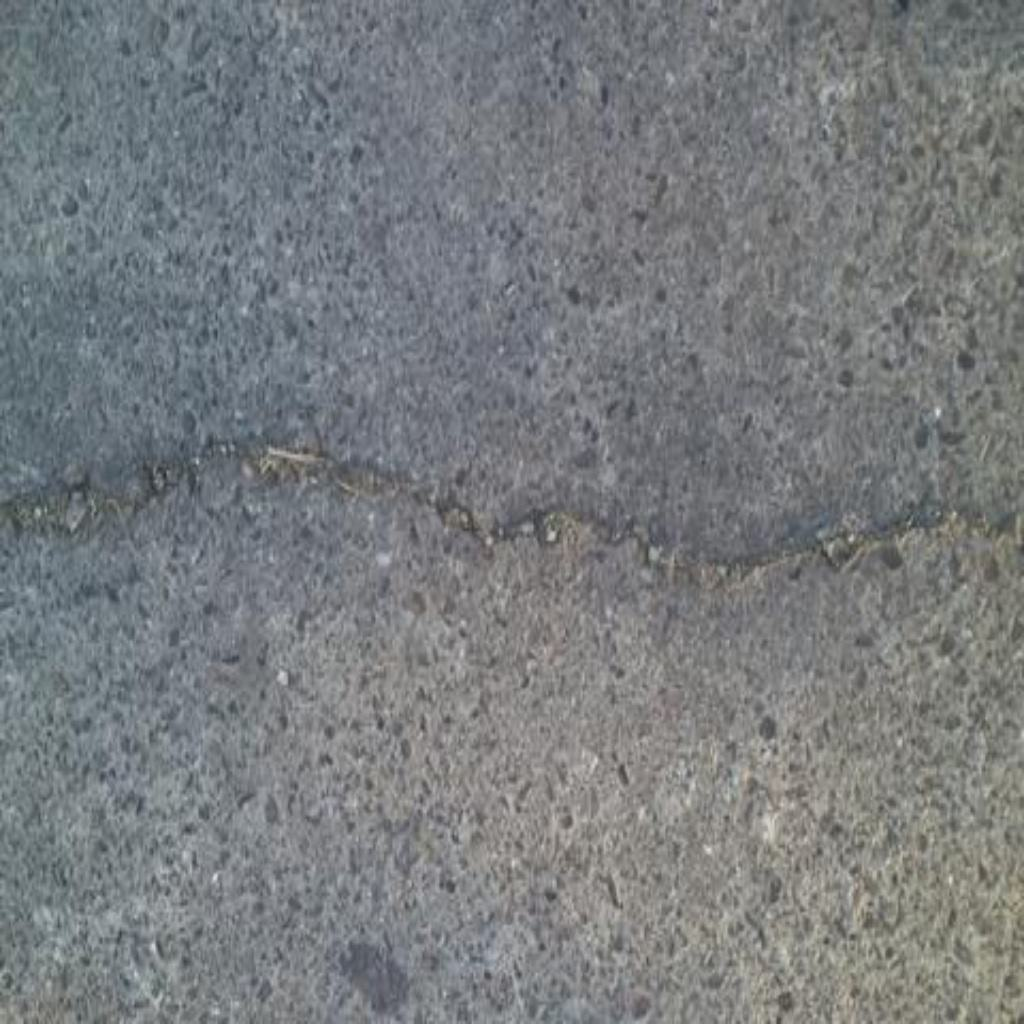Crack: (1, 439, 1024, 581)
